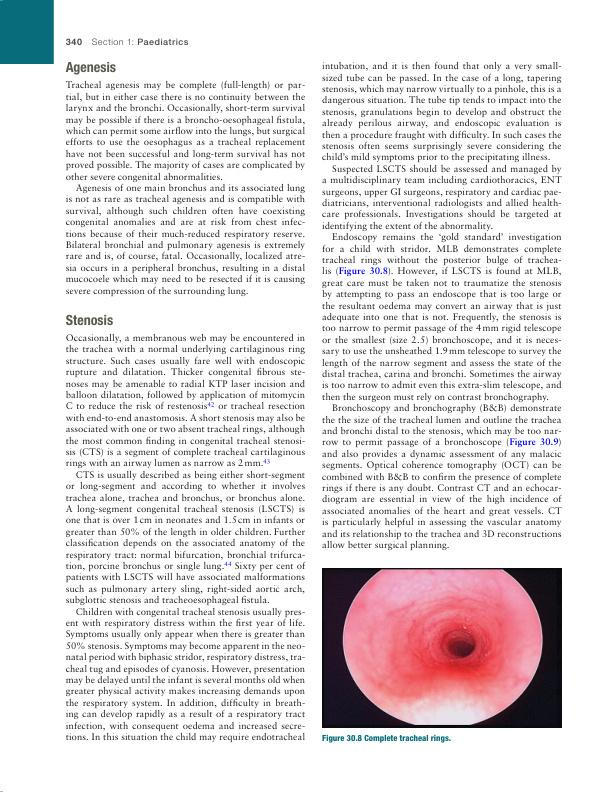caption: (321, 734, 452, 744)
header: (91, 37, 189, 47)
image: (321, 567, 563, 729)
sub-section-heading: (65, 61, 117, 76), (65, 314, 114, 327)
text: (320, 60, 562, 551), (65, 332, 306, 743), (65, 79, 307, 297)
